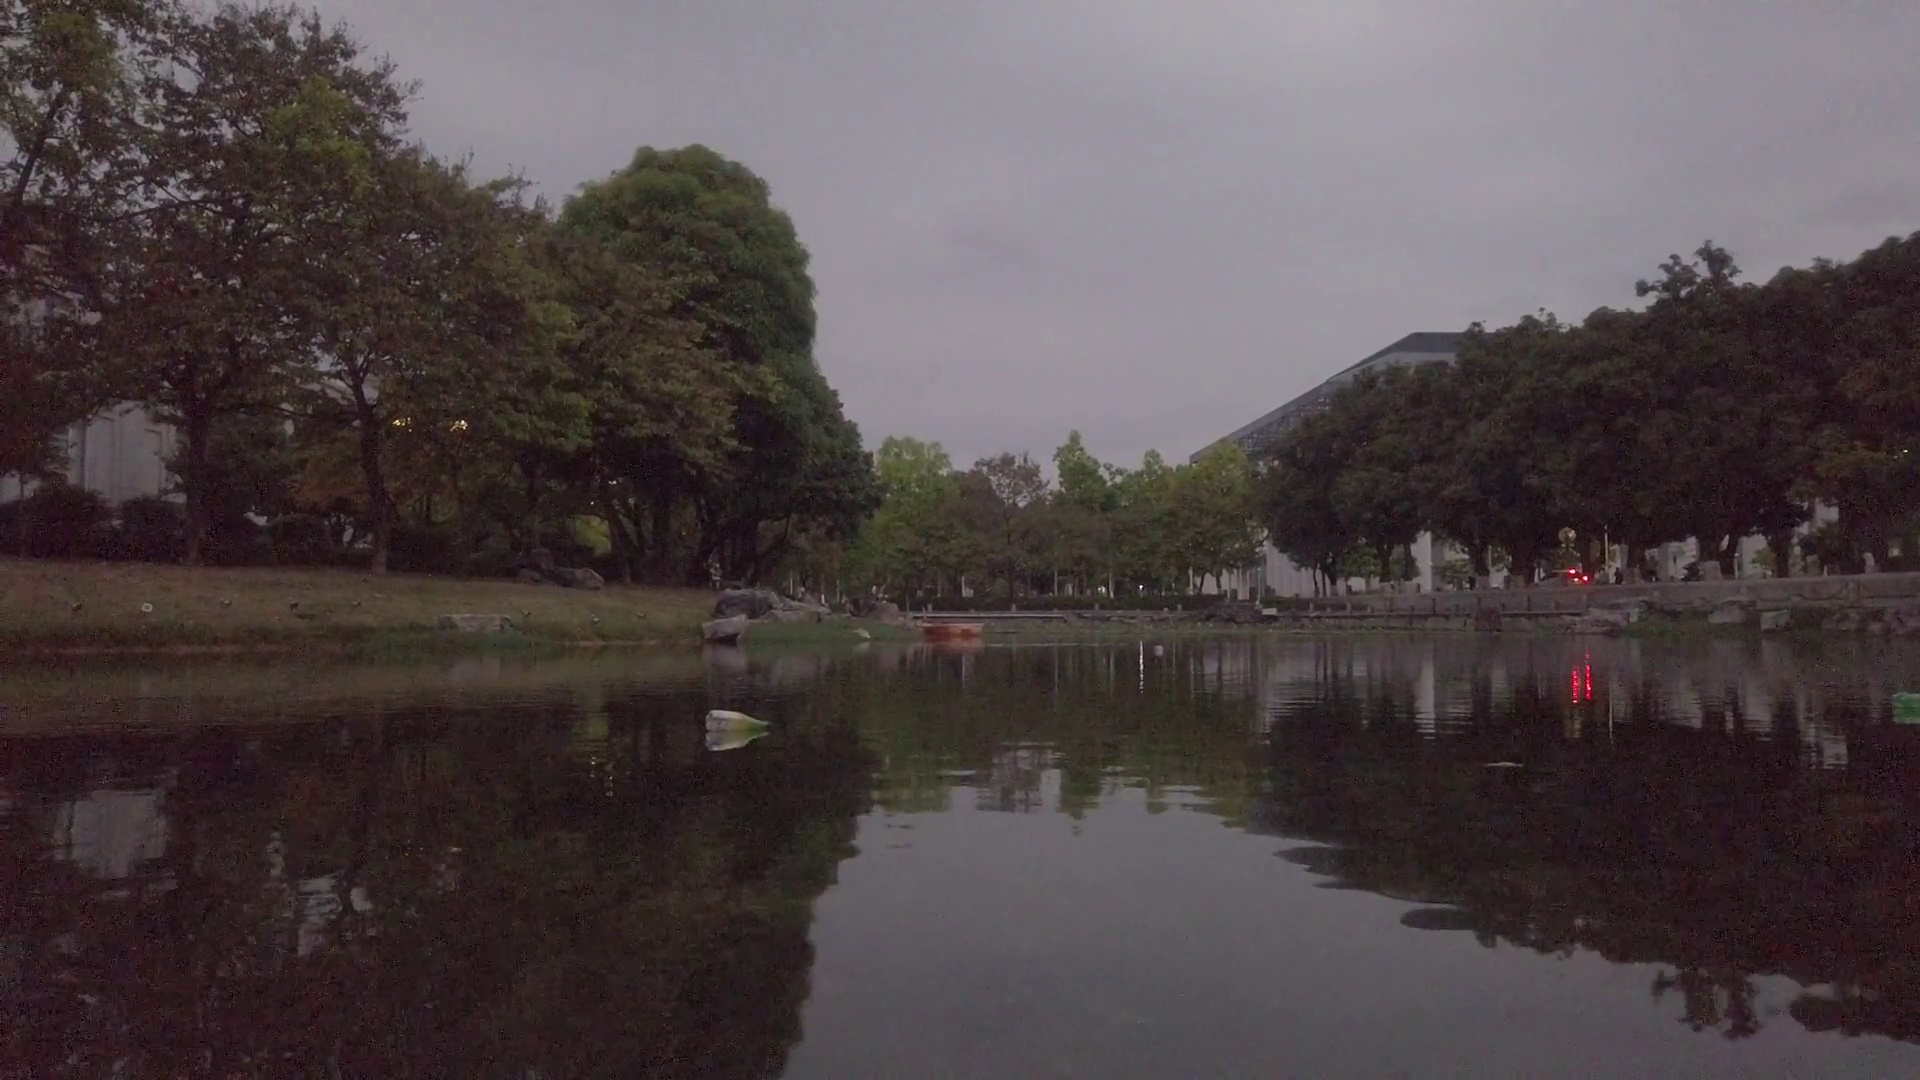bottle: (702, 711, 771, 735), (1149, 638, 1172, 657)
